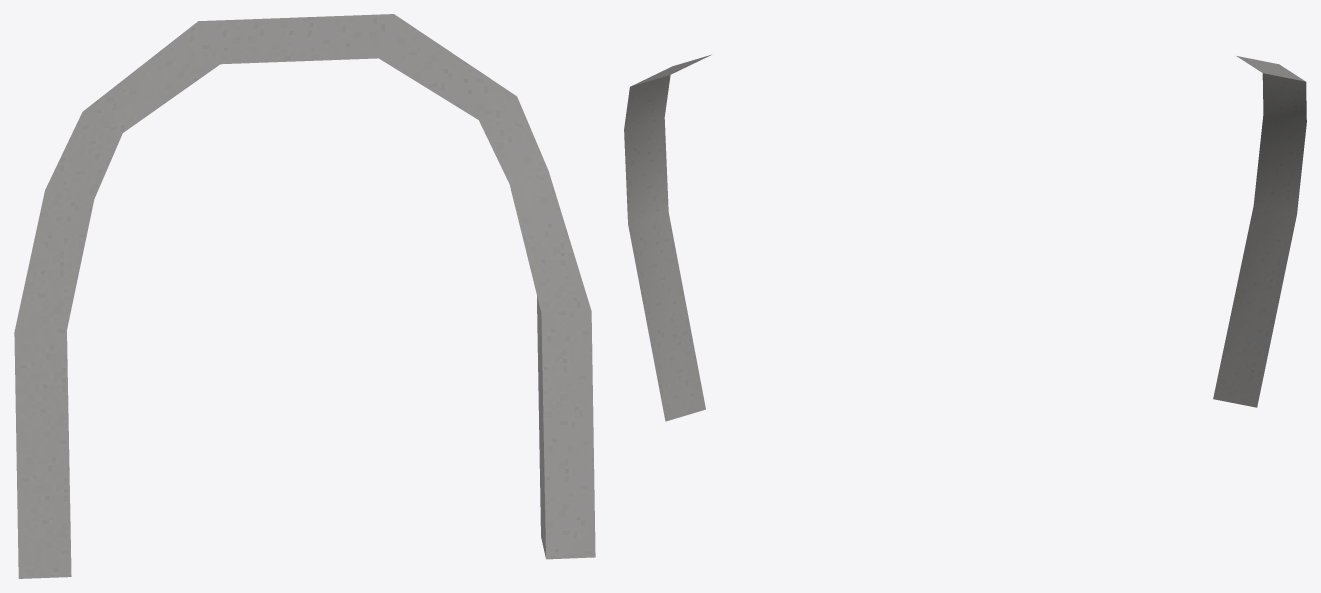
Rendered from kd_stage_1366d7_0_31.glb.
3 views of the same model, side by side, from view 1: azimuth 30°, elevation 25°; view 2: azimuth 150°, elevation 25°; view 3: azimuth 270°, elevation 25° (orthographic). The views are drawn at different scales.
Parts seen in each view (by area): view 1: kd_stage_1366d7_0_31; view 2: kd_stage_1366d7_0_31; view 3: kd_stage_1366d7_0_31.
Boxes of the visible parts, x1,y1,x2,y2 form: kd_stage_1366d7_0_31: [14, 14, 595, 578]; kd_stage_1366d7_0_31: [624, 54, 711, 421]; kd_stage_1366d7_0_31: [1213, 56, 1306, 407].
Bounding box in the file's own units: 4.52 × 4.6 × 2.7.
Materials: 1 (1 with a texture image).
